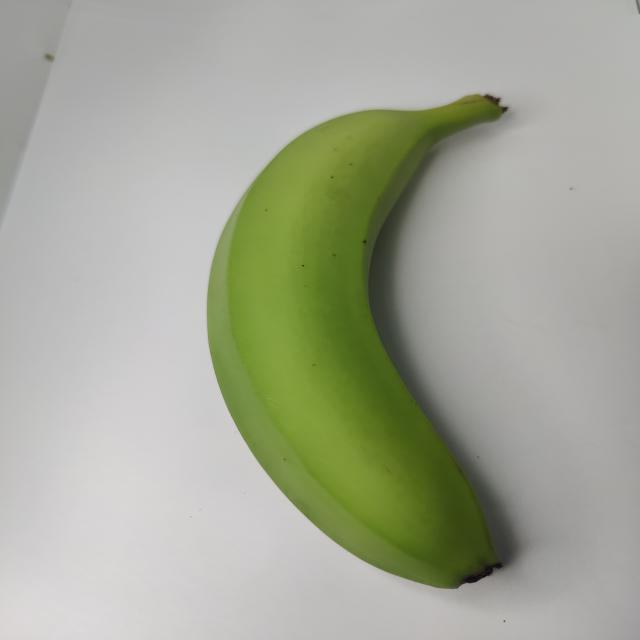raw: (150, 80, 608, 608)
